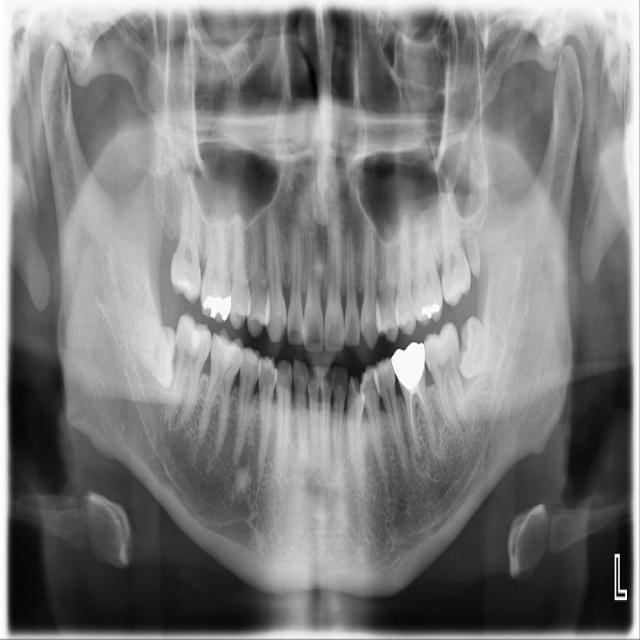Crown: (391, 341, 425, 399)
Filling: (204, 293, 232, 321), (184, 319, 208, 349), (218, 338, 238, 367), (417, 301, 442, 323), (175, 273, 194, 298)
Periapical lesion: (231, 466, 251, 494), (428, 426, 441, 453), (344, 225, 356, 247), (414, 448, 428, 466)
Root Canal Treatment: (416, 390, 434, 438), (409, 393, 414, 433)
impacted tooth: (461, 317, 522, 376), (118, 322, 174, 386)
